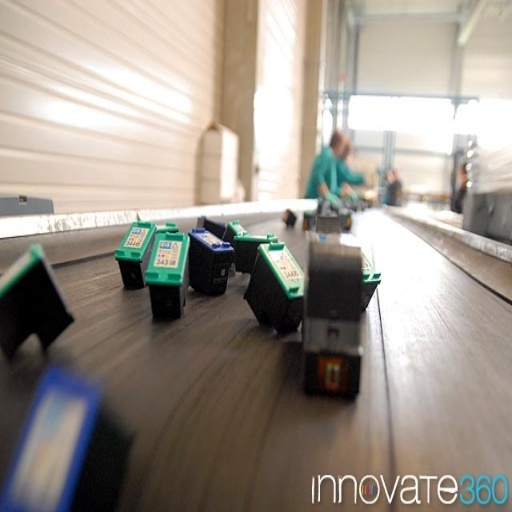hand: (324, 194, 337, 208)
